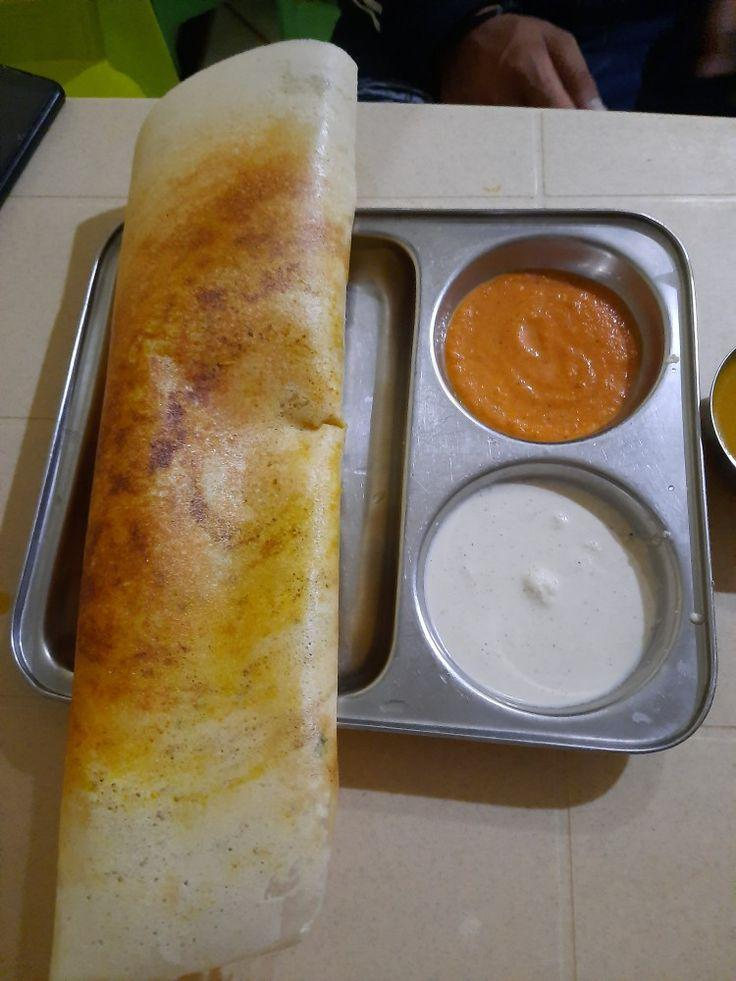dosa: (56, 52, 369, 978)
